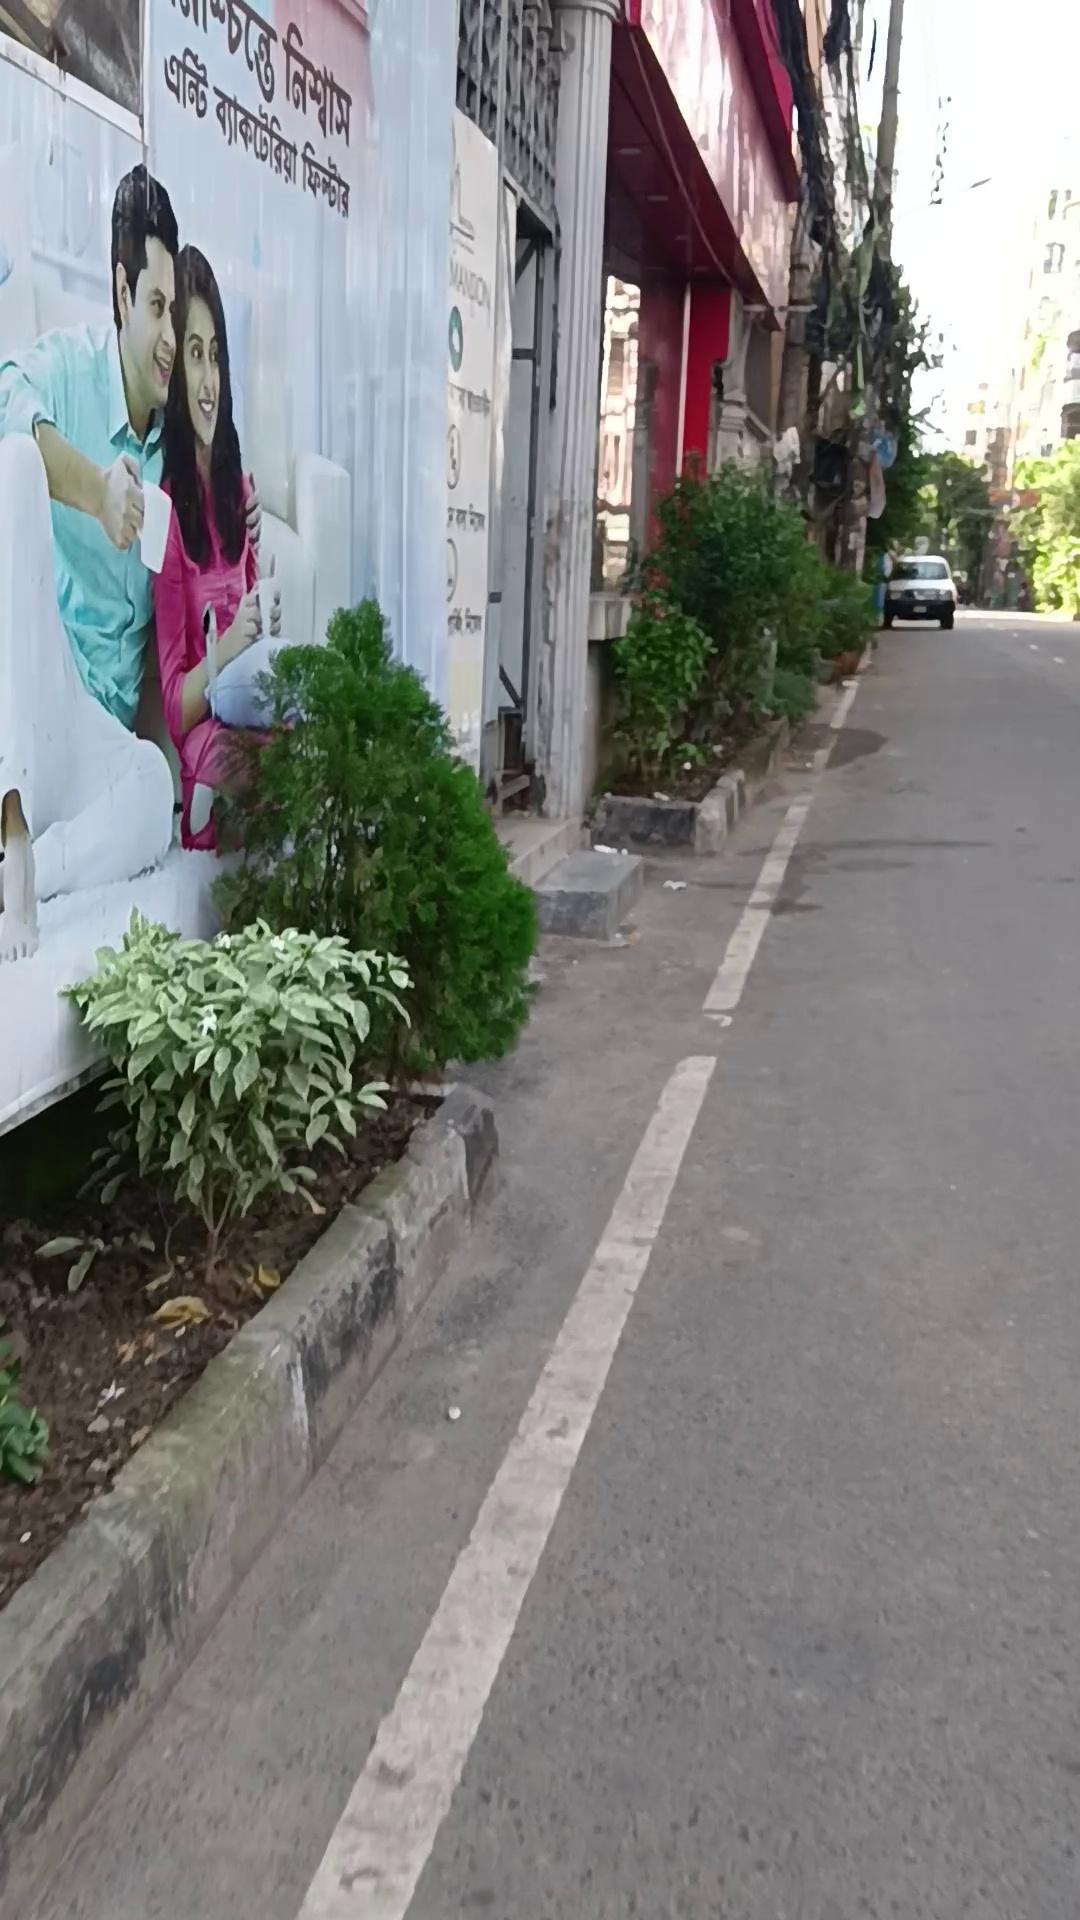Bollard: (881, 553, 957, 629)
Broken-road: (1, 1076, 501, 1913), (591, 703, 793, 873)
Curb: (146, 243, 305, 852)
Fallen-tree: (206, 593, 541, 1084), (55, 903, 415, 1258), (604, 447, 873, 789), (825, 589, 880, 676)
Light-pole: (1004, 433, 1077, 617)
Motorcycle: (502, 804, 642, 938)
Obstacle: (0, 0, 458, 1133)
